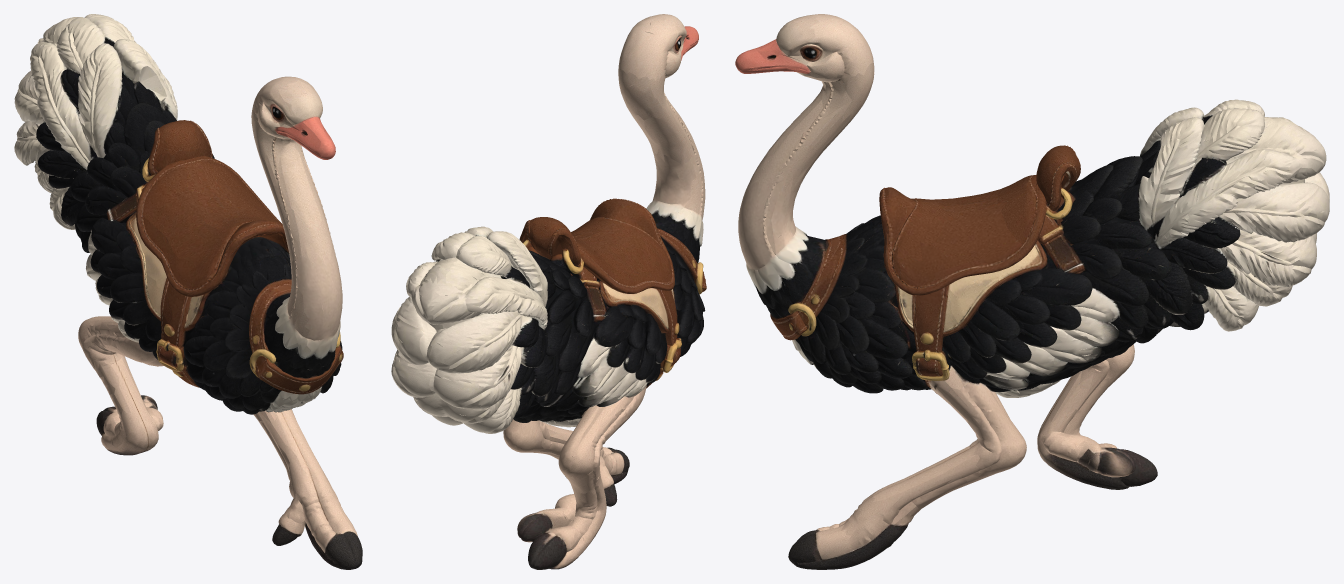
The model's file is ostrich.glb.
3 renders of one model, left to right at view 1: azimuth 30°, elevation 25°; view 2: azimuth 150°, elevation 25°; view 3: azimuth 270°, elevation 25°, orthographic. The views are drawn at different scales.
Size of the model in its own units: 0.7055 by 1.84 by 1.9.
Materials: 1 (1 with a texture image).
